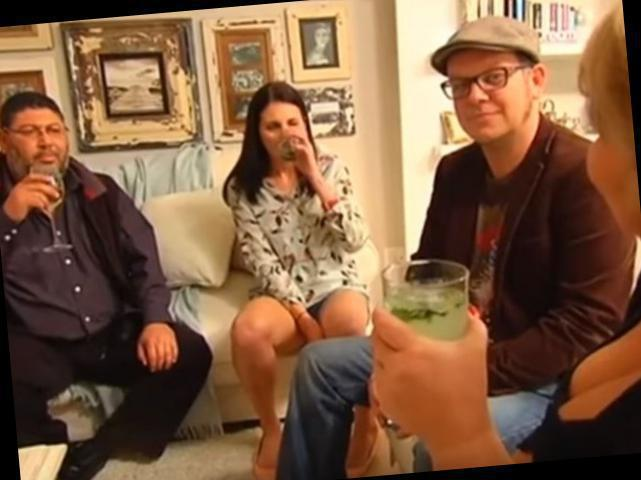Drunk: (447, 61, 512, 131), (14, 117, 69, 166)
